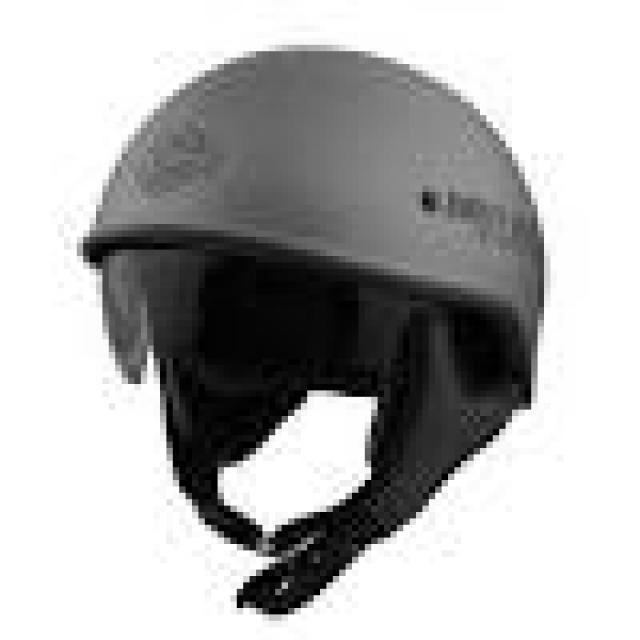helmet: (79, 44, 545, 615)
